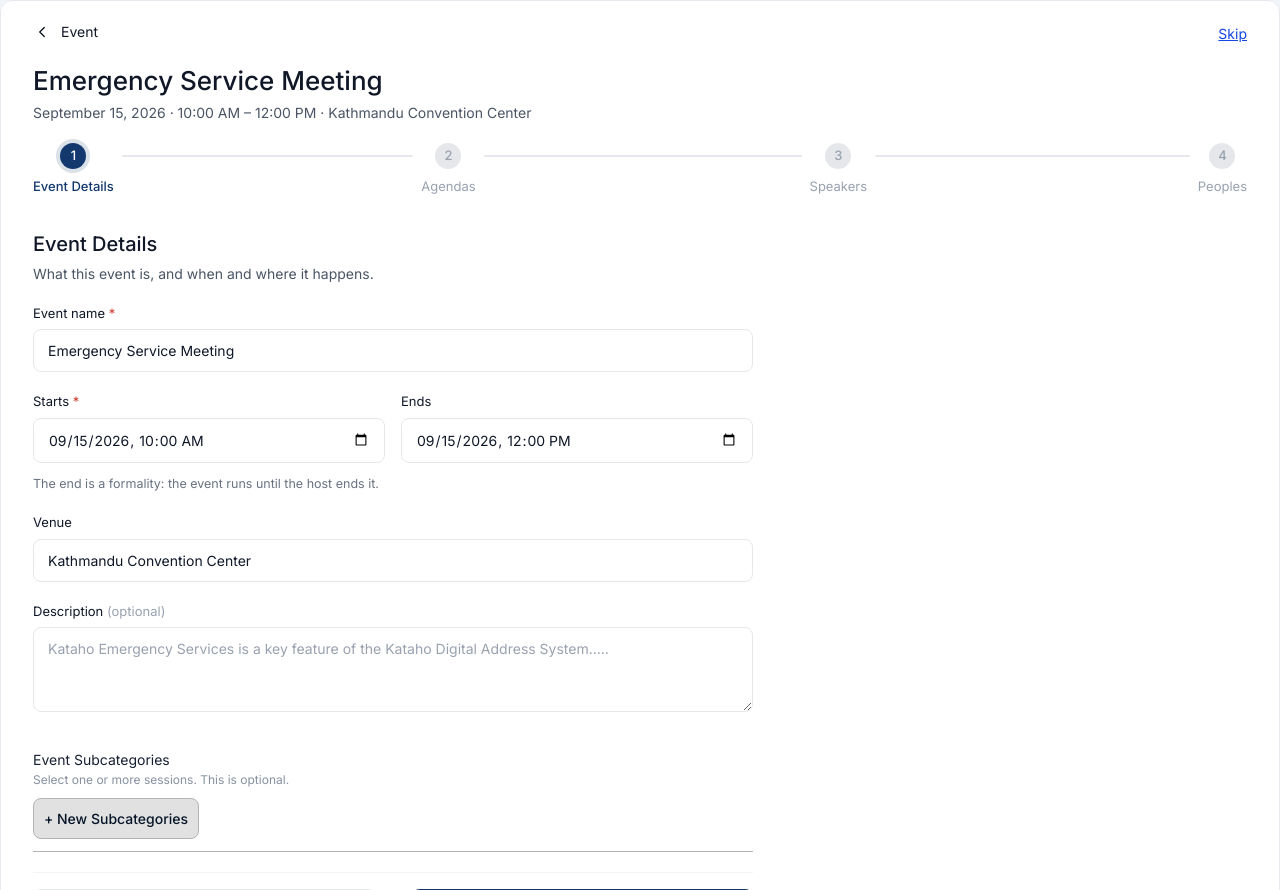
Test: the people on an event › names the host, and marks them as you
Click the button "Skip" at x=1233, y=34, box [1218, 23, 1247, 44]
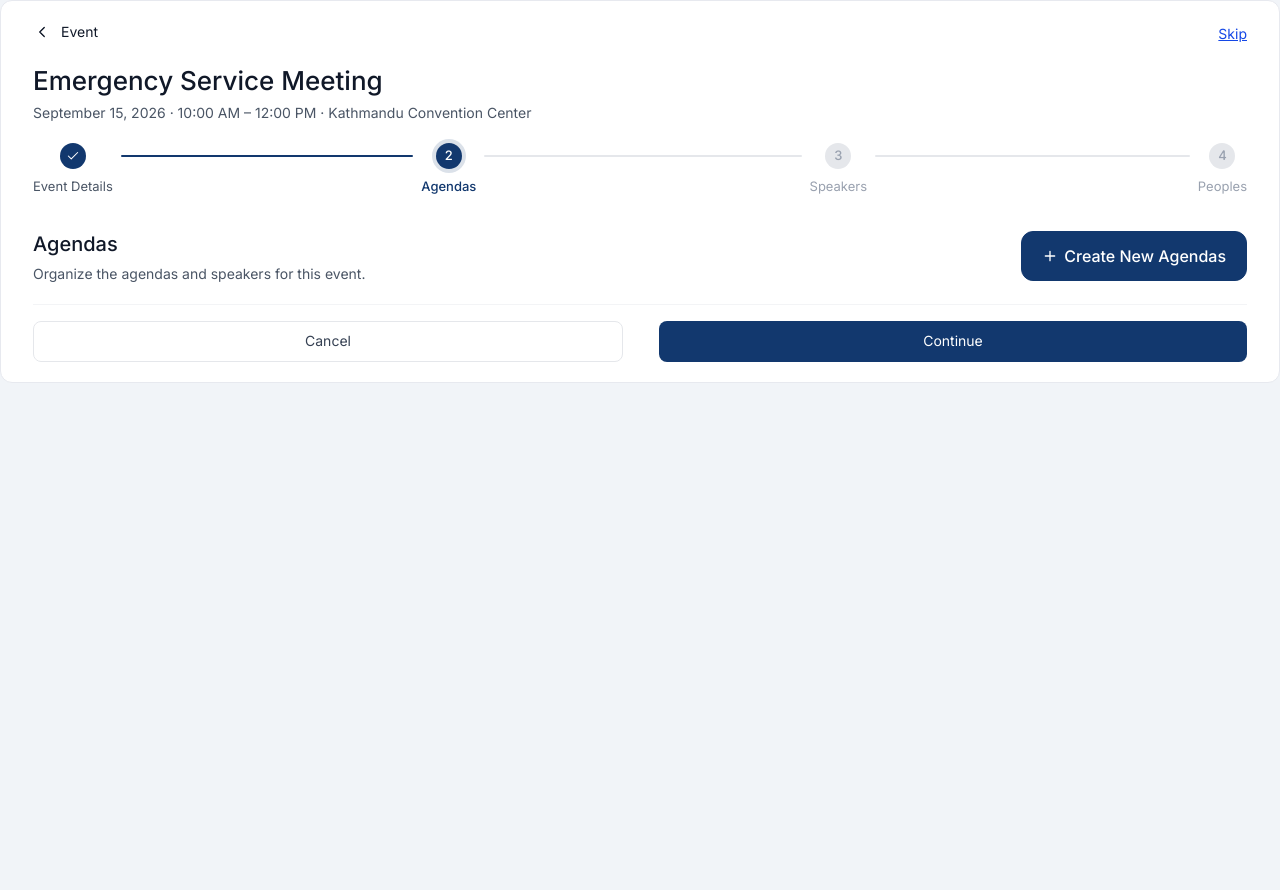
Click the button "Continue" at x=953, y=341, box [659, 321, 1247, 362]
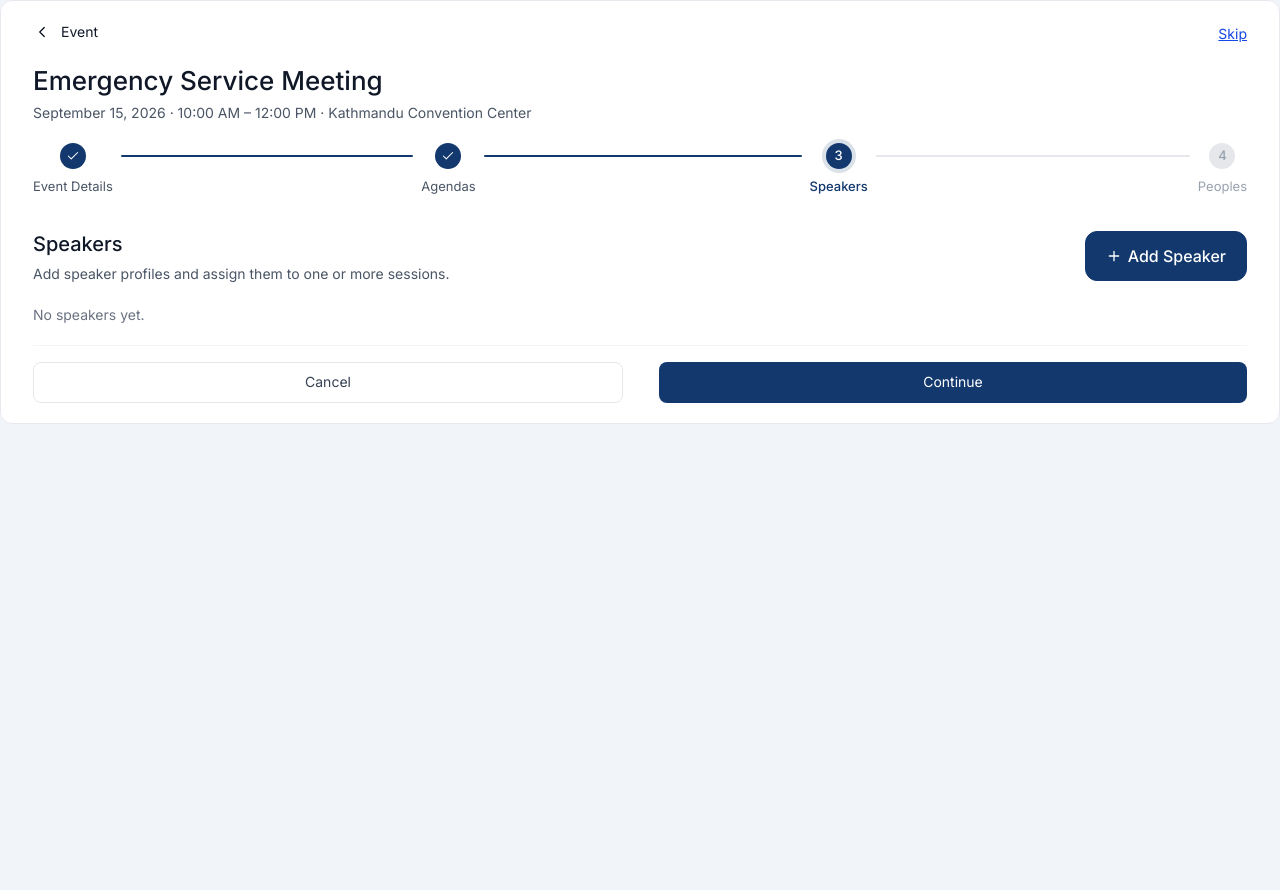
Click the button "Continue" at x=953, y=382, box [659, 362, 1247, 403]
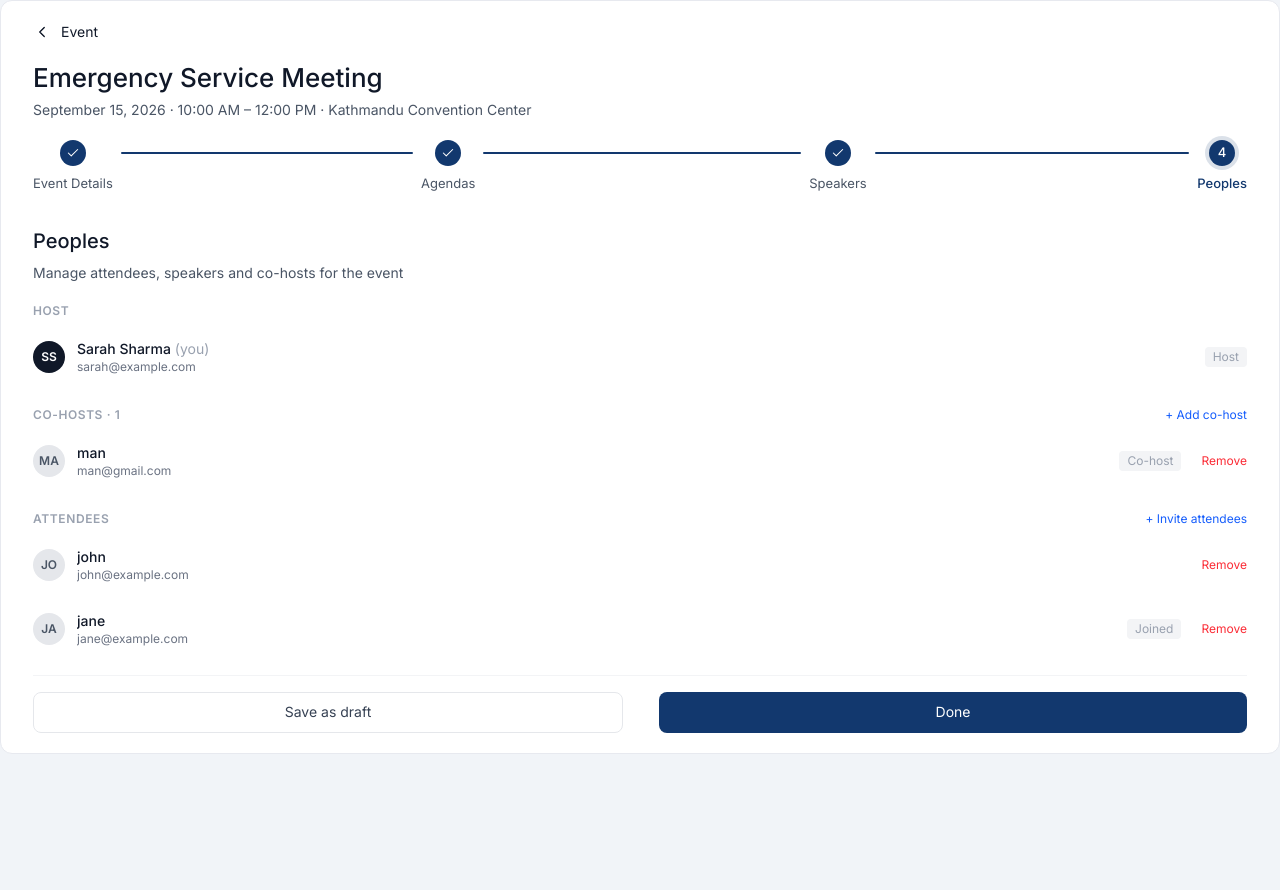
Check: the text "man@gmail.com" is shown, box [77, 463, 171, 478]
Check: the text "john@example.com" is shown, box [77, 567, 189, 582]
Check: the text "Sarah Sharma (you)" is shown, box [77, 340, 209, 357]
